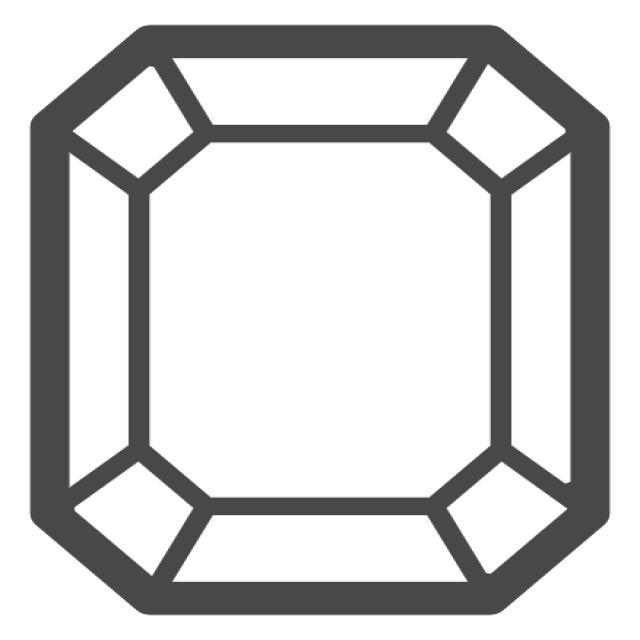emerald: (19, 19, 612, 626)
